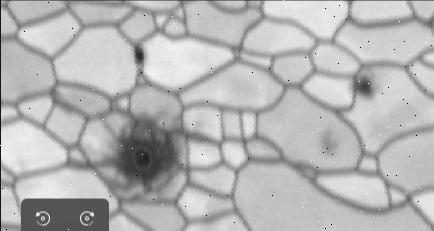good_void: (102, 109, 185, 194), (308, 123, 348, 161), (342, 72, 381, 104), (130, 40, 147, 76)
